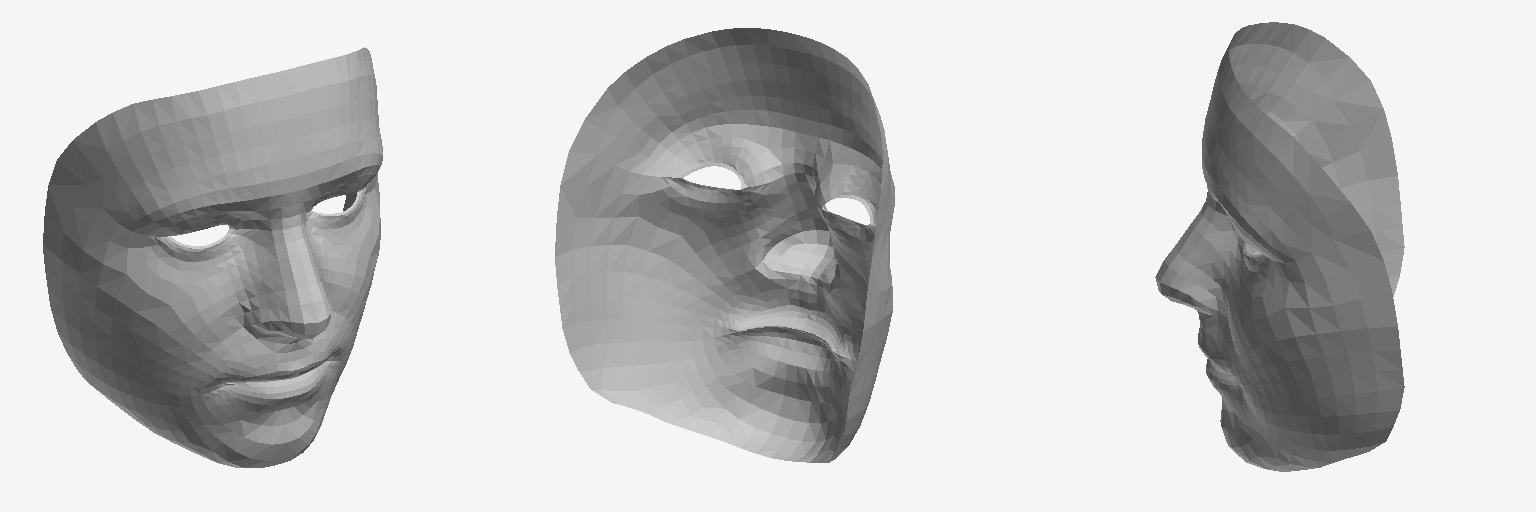
3 renders of one model, left to right at view 1: azimuth 30°, elevation 25°; view 2: azimuth 150°, elevation 25°; view 3: azimuth 270°, elevation 25°, orthographic.
Visible parts, largest first — view 1: faceMesh; view 2: faceMesh; view 3: faceMesh.
Part boxes in pixels (x1,y1,x2,y2): faceMesh: (43,47,382,467); faceMesh: (555,28,894,462); faceMesh: (1155,22,1404,471).
Bounding box in the file's own units: 14.95 × 18.68 × 10.37.